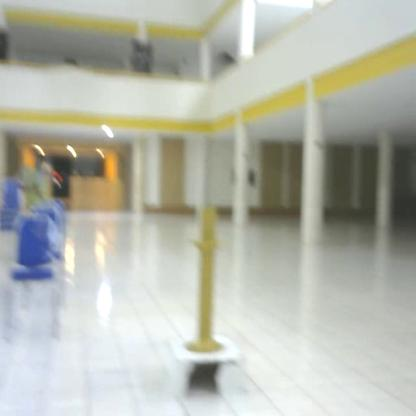pole: (181, 199, 238, 361)
